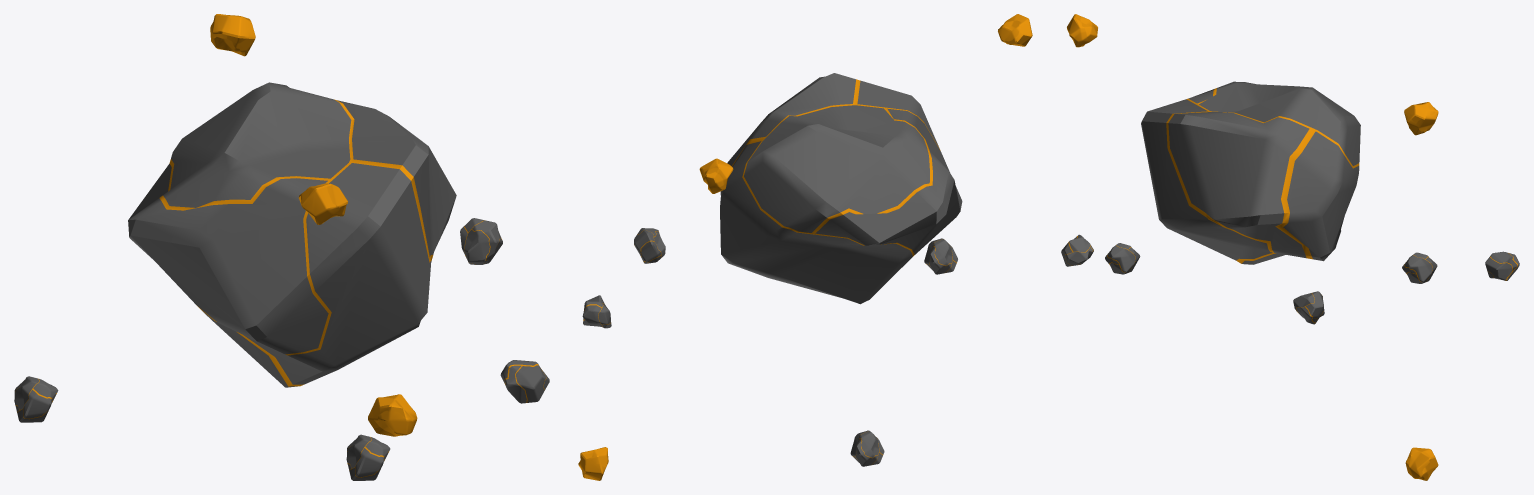
File: Rock_Volcan.fbx
3 renders of one model, left to right at view 1: azimuth 30°, elevation 25°; view 2: azimuth 150°, elevation 25°; view 3: azimuth 270°, elevation 25°, orthographic. The views are drawn at different scales.
Visible parts, largest first — view 1: pCube71, pCube108, pCube106, pCube107, pCube111, pCube104, pCube110, pCube105; view 2: pCube71, pCube111, pCube104, pCube107, pCube105, pCube110, pCube108, pCube109; view 3: pCube71, pCube108, pCube110, pCube109, pCube104, pCube111, pCube107, pCube105, pCube106.
Part boxes in pixels (x1,y1,x2,y2): pCube71: (128, 82, 456, 387); pCube108: (368, 394, 417, 436); pCube106: (500, 360, 549, 403); pCube107: (460, 218, 502, 264); pCube111: (14, 376, 58, 422); pCube104: (346, 434, 390, 480); pCube110: (210, 14, 255, 56); pCube105: (298, 183, 347, 224); pCube71: (720, 73, 962, 304); pCube111: (850, 430, 884, 466); pCube104: (924, 238, 957, 274); pCube107: (634, 228, 665, 263); pCube105: (998, 14, 1032, 46); pCube110: (699, 158, 733, 193); pCube108: (578, 447, 608, 480); pCube109: (582, 295, 611, 328); pCube71: (1141, 81, 1360, 264); pCube108: (1405, 447, 1438, 480); pCube110: (1404, 102, 1438, 135); pCube109: (1485, 251, 1519, 280); pCube104: (1105, 243, 1140, 274); pCube111: (1402, 252, 1437, 283); pCube107: (1293, 291, 1324, 324); pCube105: (1067, 14, 1097, 47); pCube106: (1061, 234, 1093, 266).
Bounding box in the file's own units: 0.3668 × 0.4425 × 0.5196.
